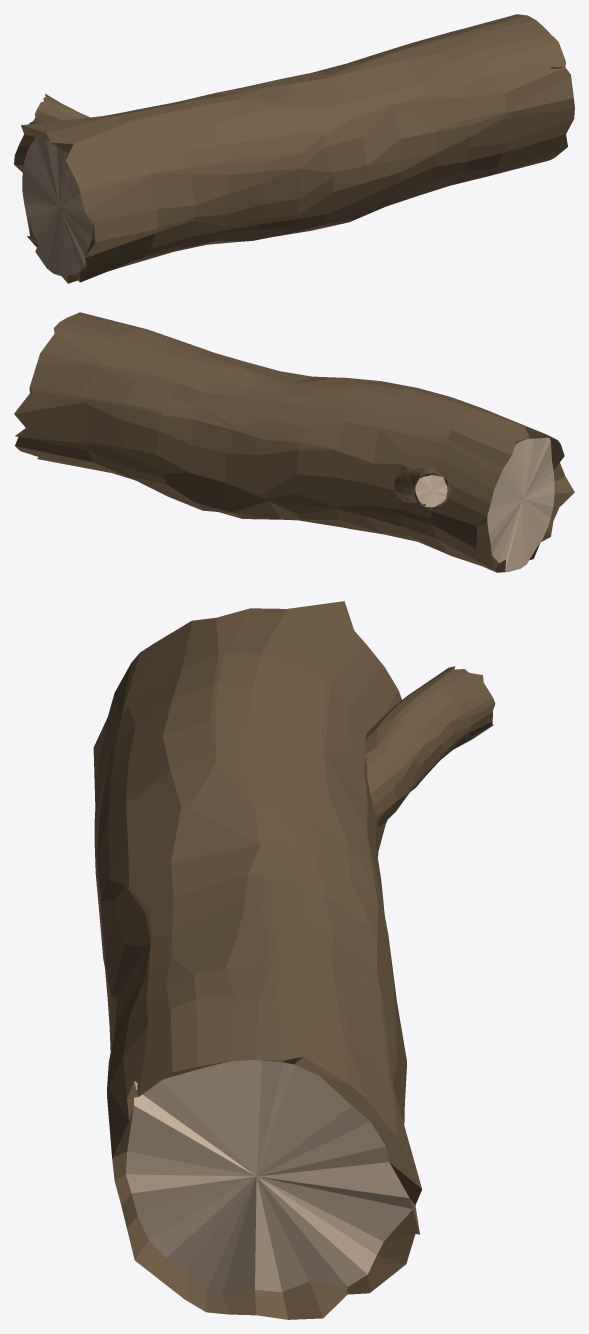
The model's file is wood_big.fbx.
3 renders of one model, top to bottom at view 1: azimuth 30°, elevation 25°; view 2: azimuth 150°, elevation 25°; view 3: azimuth 270°, elevation 25°, orthographic. The views are drawn at different scales.
Parts seen in each view (by area): view 1: kalın_odun:Group56619; view 2: kalın_odun:Group56619; view 3: kalın_odun:Group56619.
Boxes of the visible parts, x1=… form: kalın_odun:Group56619: x1=14, y1=14, x2=574, y2=283; kalın_odun:Group56619: x1=14, y1=312, x2=574, y2=572; kalın_odun:Group56619: x1=93, y1=601, x2=495, y2=1319.
Size of the model in its own units: 590 by 165 by 211.
